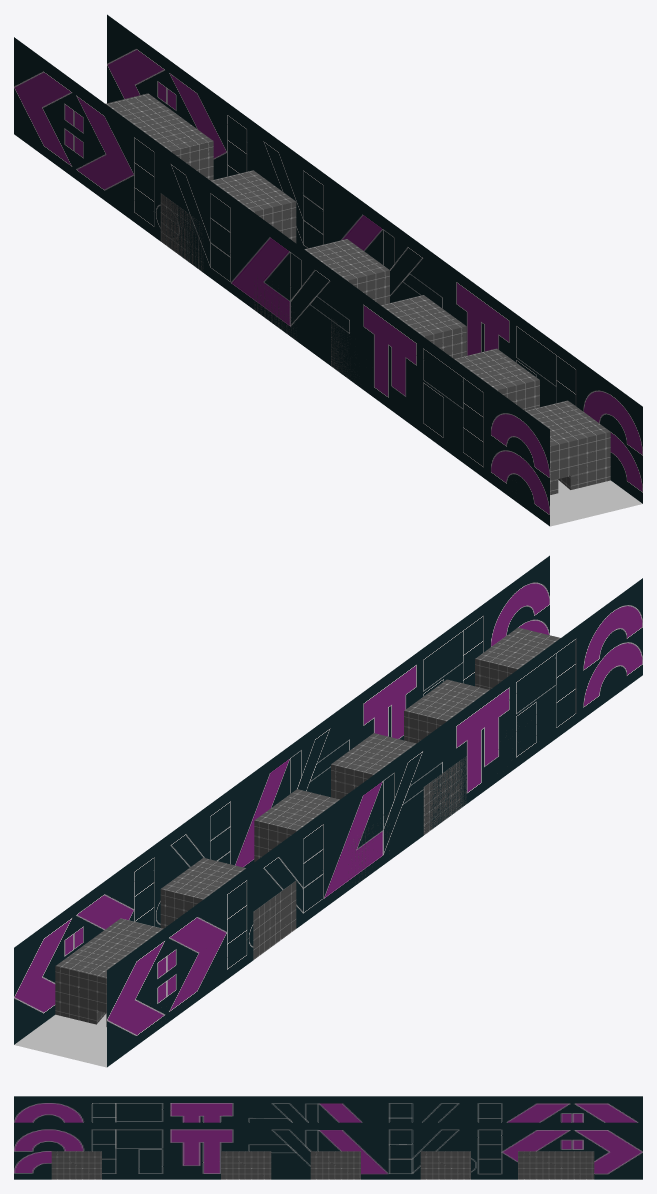
File: Tile17.fbx
3 views of the same model, one above another, from view 1: azimuth 30°, elevation 25°; view 2: azimuth 150°, elevation 25°; view 3: azimuth 270°, elevation 25° (orthographic). The views are drawn at different scales.
Parts seen in each view (by area): view 1: WallRight, WallLeft, polySurface41, polySurface35, polySurface33, polySurface39, polySurface37, polySurface42, ground; view 2: WallRight, WallLeft, polySurface33, polySurface35, polySurface39, ground, polySurface37, polySurface42, polySurface41; view 3: WallLeft, WallRight, polySurface33, polySurface41, polySurface39, polySurface37, polySurface35.
Boxes of the visible parts, left/top/right/bottom form: WallRight: left=14, top=37, right=549, bottom=526; WallLeft: left=107, top=14, right=642, bottom=503; polySurface41: left=525, top=400, right=610, bottom=494; polySurface35: left=160, top=170, right=296, bottom=272; polySurface33: left=105, top=93, right=213, bottom=180; polySurface39: left=331, top=295, right=466, bottom=382; polySurface37: left=254, top=239, right=389, bottom=339; polySurface42: left=454, top=348, right=539, bottom=410; ground: left=550, top=480, right=642, bottom=526; WallRight: left=107, top=578, right=642, bottom=1067; WallLeft: left=14, top=555, right=549, bottom=1044; polySurface33: left=55, top=918, right=165, bottom=1026; polySurface35: left=160, top=857, right=296, bottom=959; polySurface39: left=331, top=733, right=466, bottom=835; ground: left=14, top=1014, right=106, bottom=1067; polySurface37: left=254, top=789, right=389, bottom=882; polySurface42: left=404, top=679, right=489, bottom=743; polySurface41: left=475, top=627, right=560, bottom=689; WallLeft: left=14, top=1122, right=642, bottom=1179; WallRight: left=14, top=1096, right=642, bottom=1122; polySurface33: left=518, top=1151, right=594, bottom=1179; polySurface41: left=51, top=1151, right=101, bottom=1179; polySurface39: left=221, top=1151, right=271, bottom=1179; polySurface37: left=310, top=1151, right=360, bottom=1179; polySurface35: left=420, top=1151, right=470, bottom=1179.
Bounding box in the file's own units: 10 × 10 × 100.
